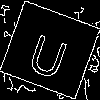U: (25, 25, 74, 81)
